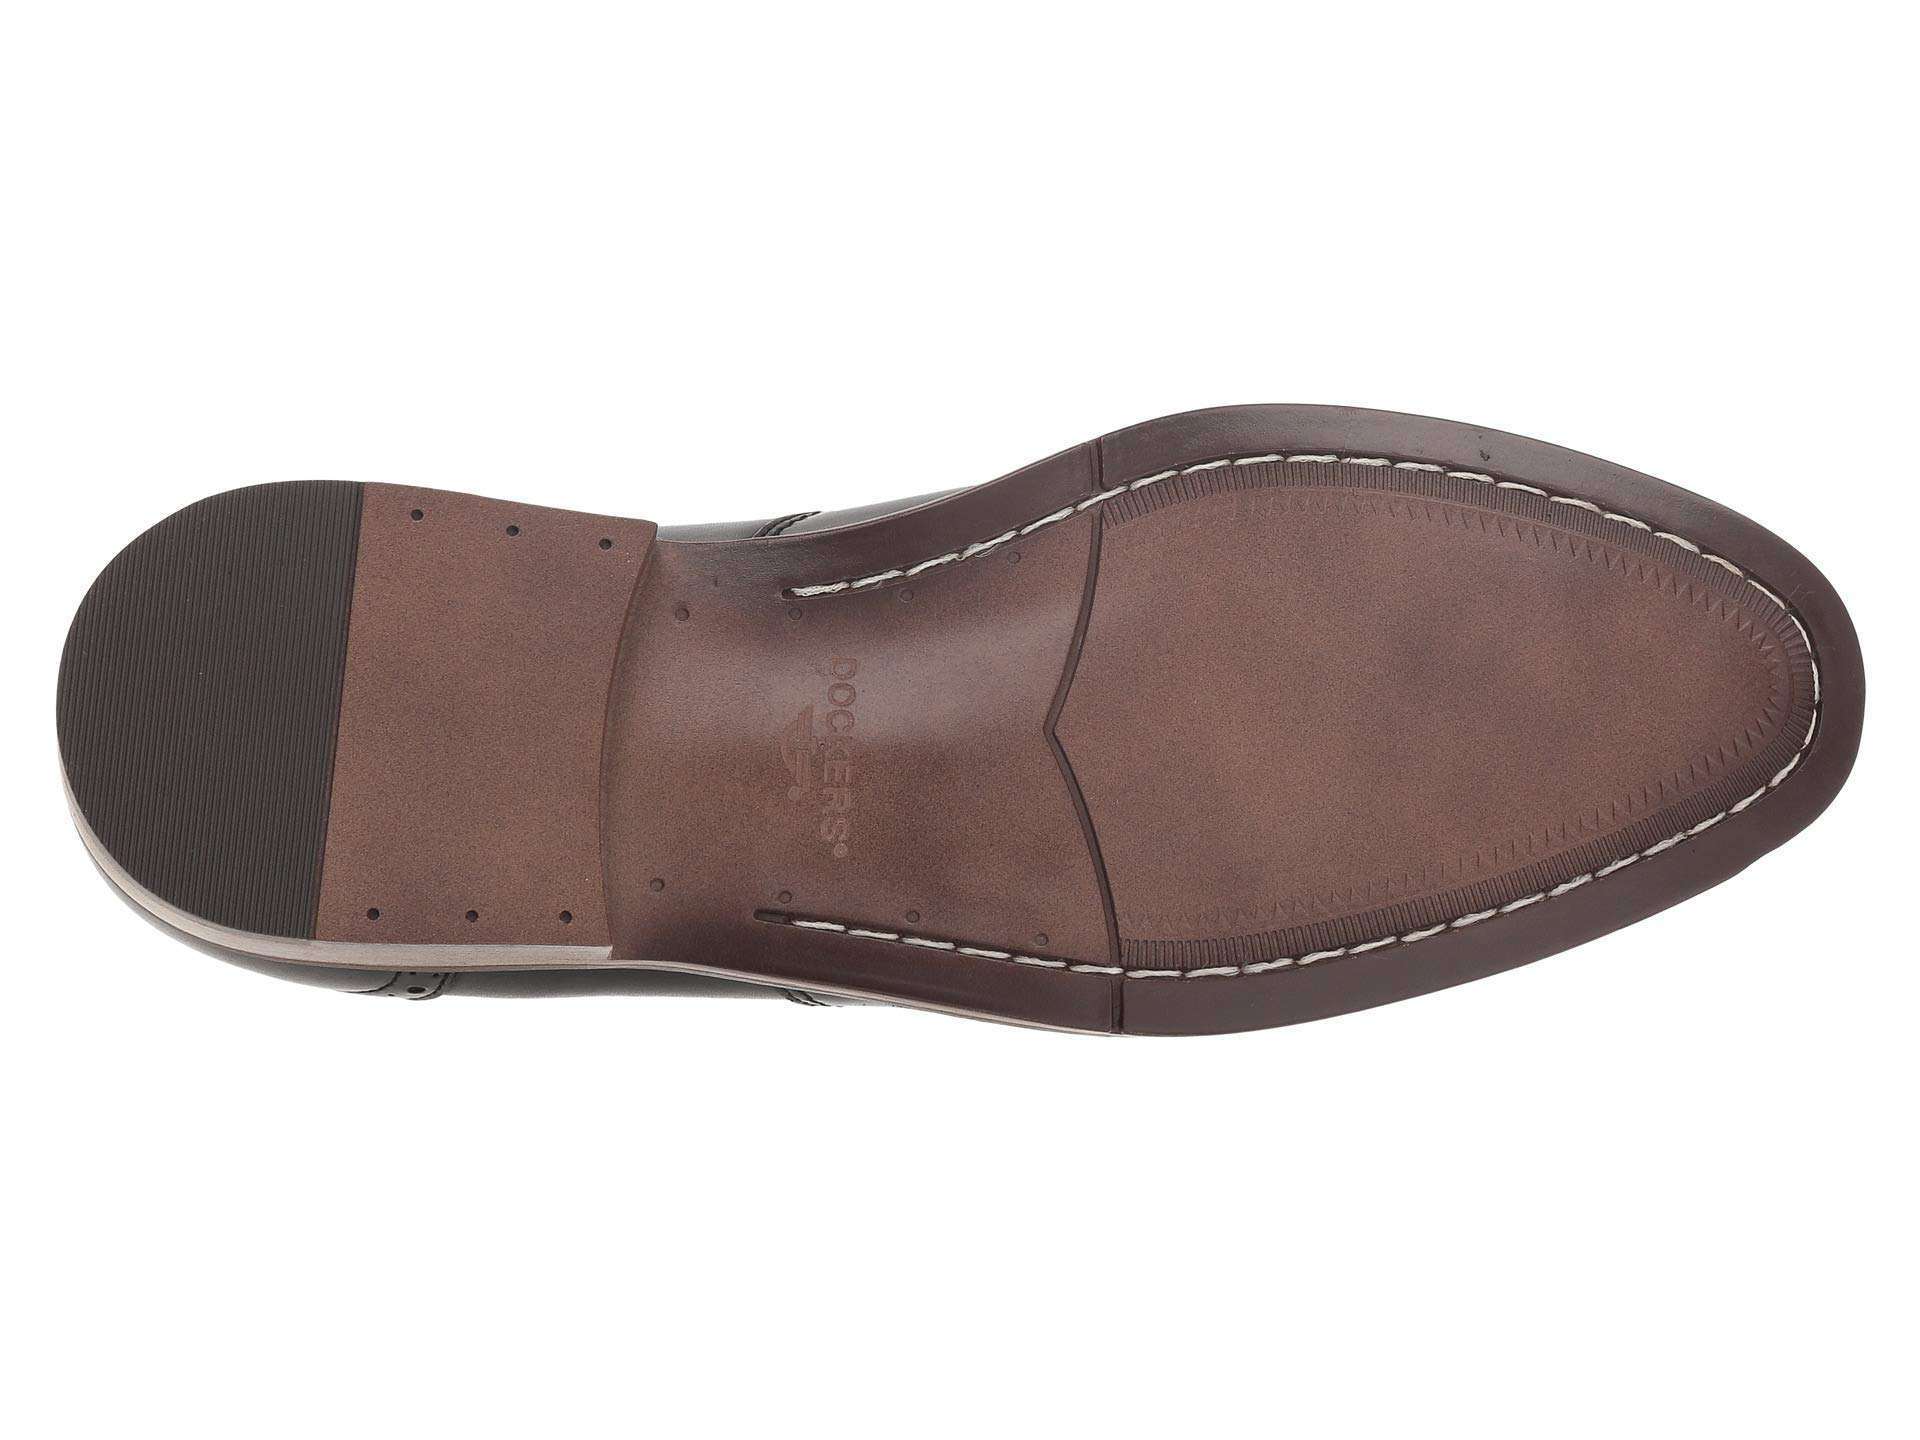circle: (346, 874, 590, 953), (389, 501, 624, 561)
line: (1016, 535, 1197, 938), (135, 555, 308, 908)
quad: (1695, 582, 1820, 776), (1699, 622, 1844, 768), (1497, 777, 1646, 911), (1284, 852, 1426, 988), (1548, 492, 1687, 613), (1253, 421, 1380, 538)
triangle: (1695, 582, 1820, 776), (1699, 622, 1844, 768), (1497, 777, 1646, 911), (1284, 852, 1426, 988), (1548, 492, 1687, 613), (1253, 421, 1380, 538)
